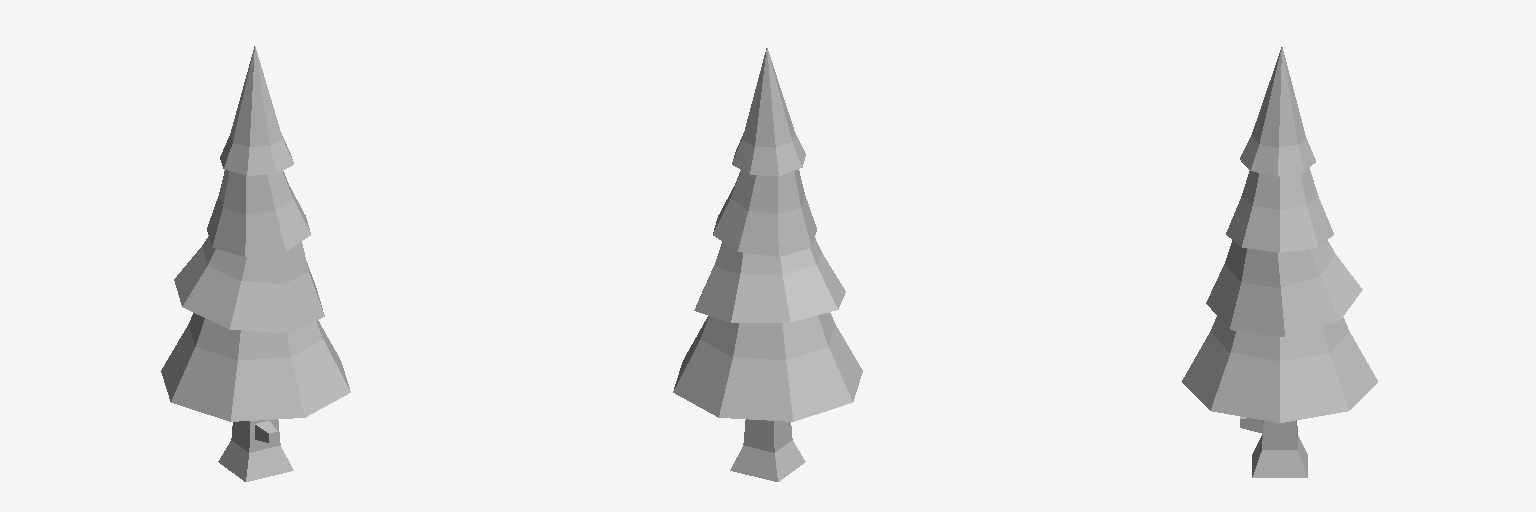
The model's file is tree-crooked.obj.
3 renders of one model, left to right at view 1: azimuth 30°, elevation 25°; view 2: azimuth 150°, elevation 25°; view 3: azimuth 270°, elevation 25°, orthographic.
Parts seen in each view (by area): view 1: tree-crooked; view 2: tree-crooked; view 3: tree-crooked.
Boxes of the visible parts, x1,y1,x2,y2 form: tree-crooked: [161, 46, 350, 481]; tree-crooked: [673, 48, 862, 481]; tree-crooked: [1182, 47, 1377, 477].
Size of the model in its own units: 1.02 by 2.41 by 1.02.